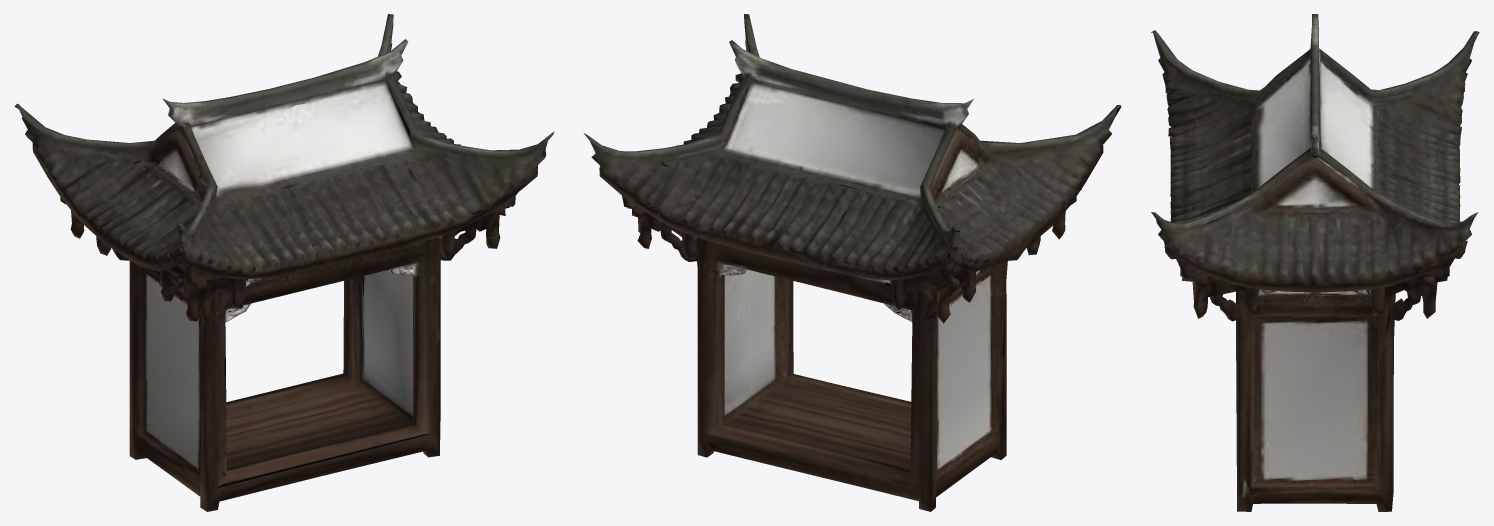
Rendered from lib_wood_pavilion.bk.glb.
3 views of the same model, side by side, from view 1: azimuth 30°, elevation 25°; view 2: azimuth 150°, elevation 25°; view 3: azimuth 270°, elevation 25° (orthographic).
Visible parts, largest first — view 1: lo; view 2: lo; view 3: lo.
Boxes of the visible parts, left/top/right/bottom form: lo: left=14, top=14, right=554, bottom=511; lo: left=584, top=14, right=1121, bottom=511; lo: left=1151, top=14, right=1479, bottom=511.
Size of the model in its own units: 1.89 by 1.84 by 1.43.
1 material, 1 textured.
